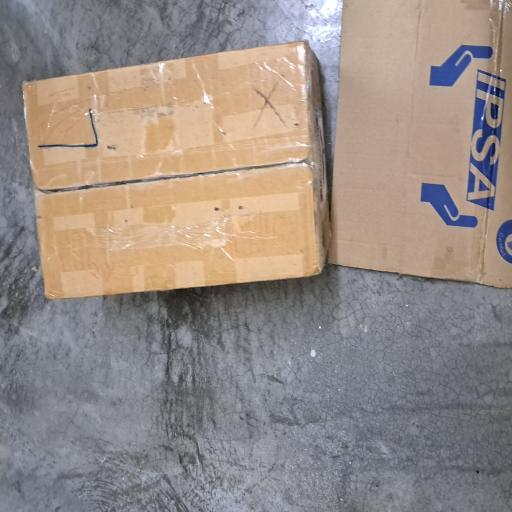cardboard: (156, 31, 355, 440), (165, 440, 384, 512)
